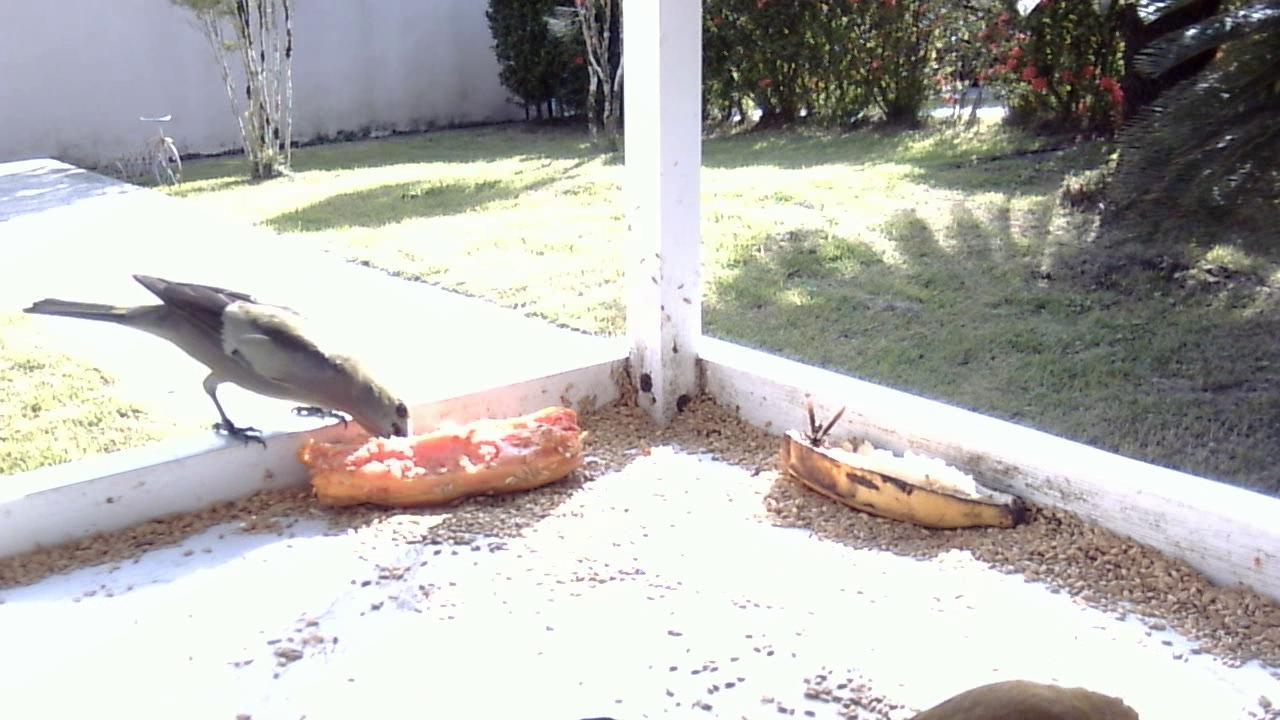sanhaco_do_coqueiro: (18, 261, 413, 475)
